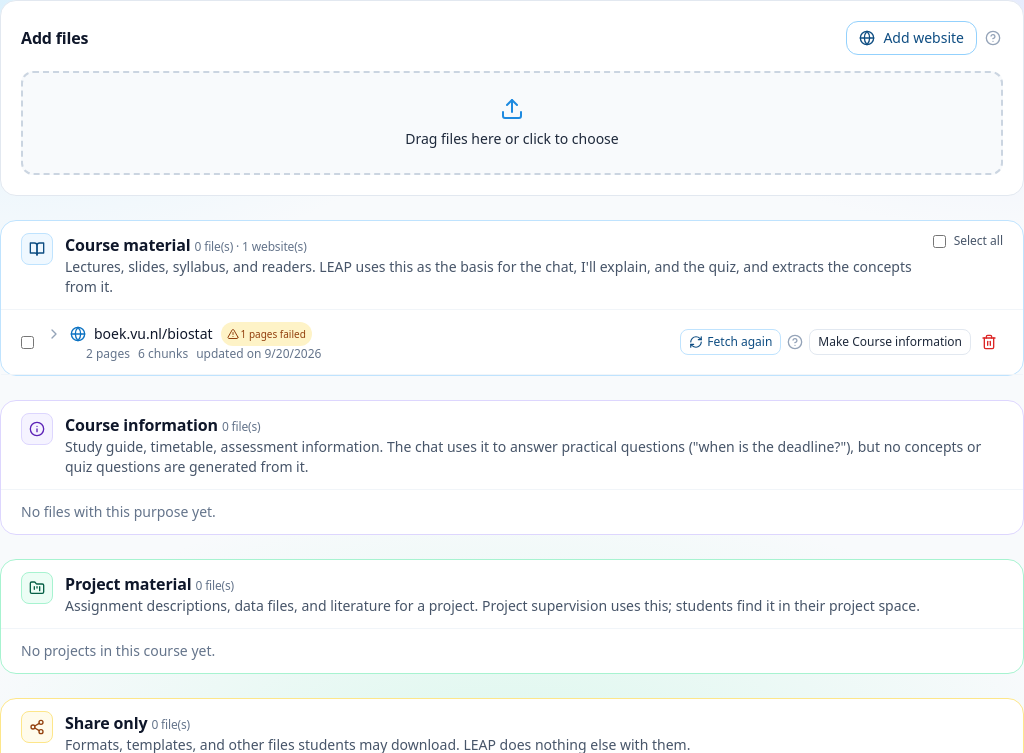
Scenario: FilesStep — websites als één bron › opnieuw ophalen stuurt de bron mee en meldt verdwenen pagina’s
Click the button with test id "button-resync-web-source-s1". click: (731, 342)
box: [680,329,781,355]
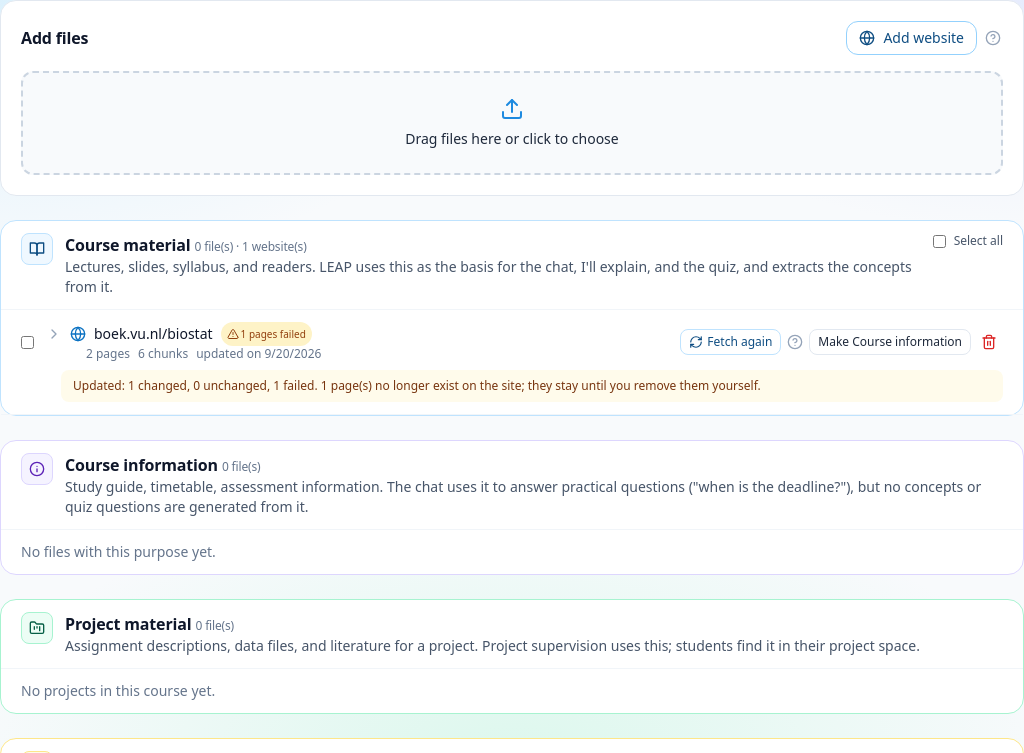
Expected: the text with test id "text-web-source-notice-s1" shows "1", [73,377,761,394]
